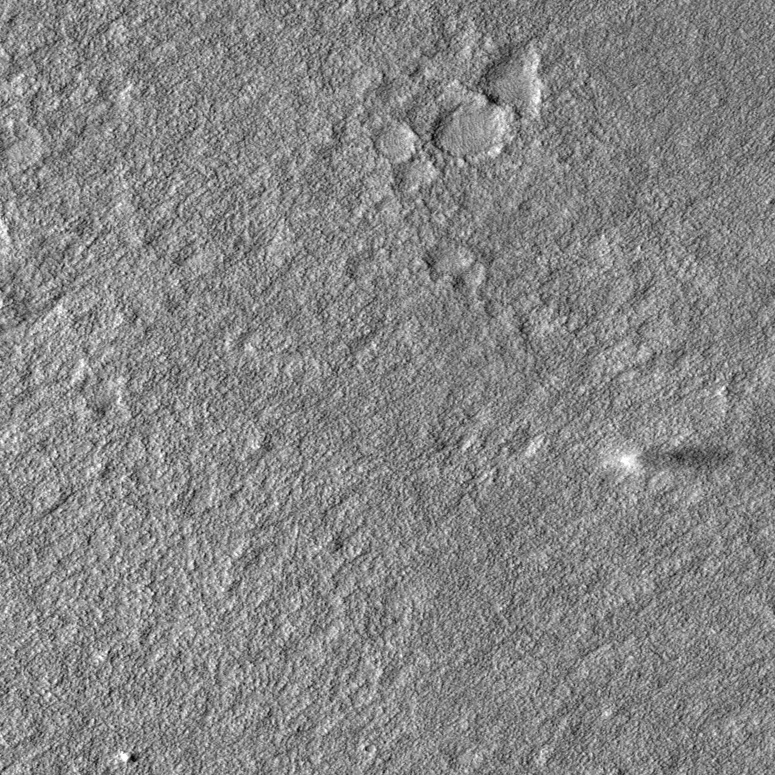dust_devil: (613, 441, 734, 480)
